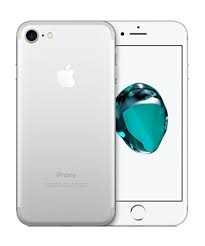iphone: (12, 21, 116, 227)
iphone7: (12, 21, 191, 229)
